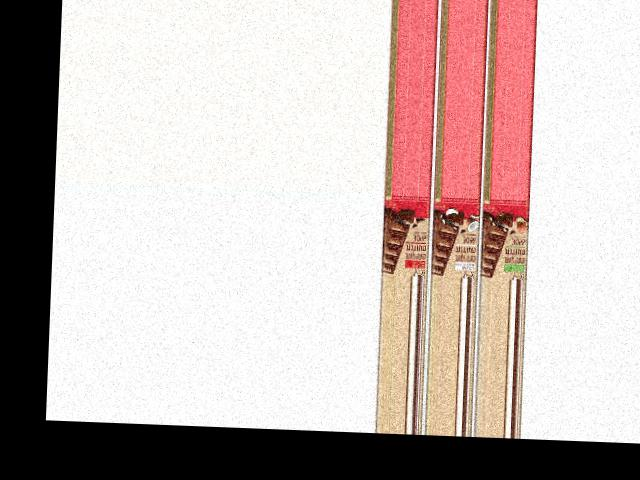chocolate: (481, 198, 531, 279)
